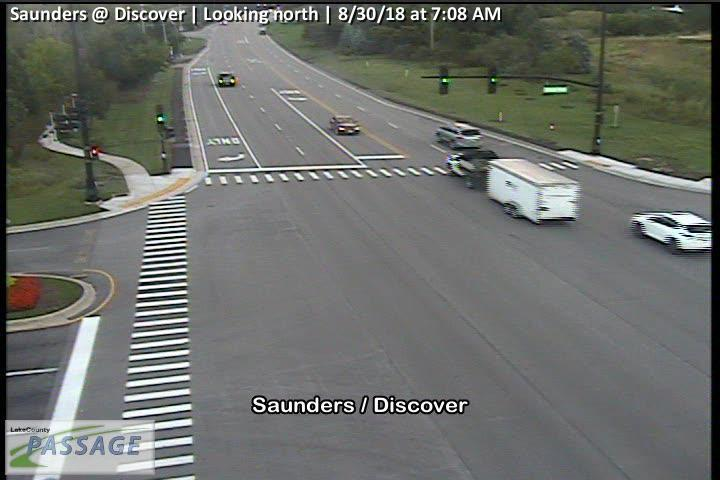SUV: (436, 122, 481, 149), (218, 73, 235, 86)
Sedan: (629, 211, 699, 254), (329, 116, 359, 135)
Truck: (448, 148, 581, 223)
